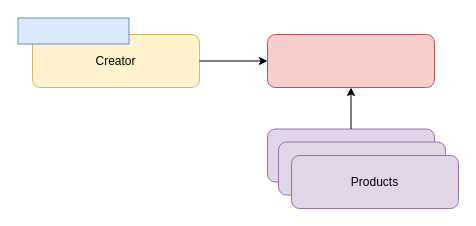
Some shapes in this 476 by 226 pixel diagram are drawn without their labels. Here are the shapes that lost their labels. From the top down, the centre of each, then its label:
(73,30): FactoryMethod();
(350,61): AbstractProduct
